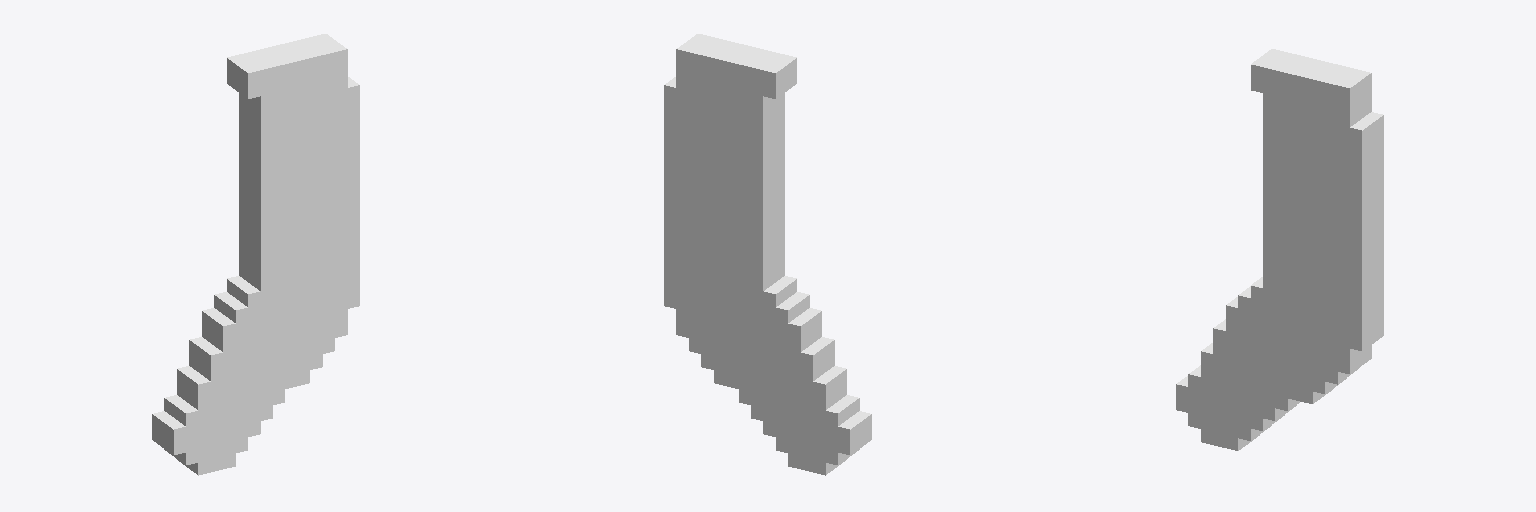
Rendered from sock_grey.obj.
The picture shows the model from 3 angles: view 1: azimuth 30°, elevation 25°; view 2: azimuth 150°, elevation 25°; view 3: azimuth 330°, elevation 25°; orthographic projection.
Parts seen in each view (by area): view 1: object 1; view 2: object 1; view 3: object 1.
Boxes of the visible parts, box(x1,y1,x2,y2) form: object 1: box(152, 34, 359, 475); object 1: box(664, 34, 871, 475); object 1: box(1176, 49, 1383, 450).
Size of the model in its own units: 1.5 by 3 by 0.3.